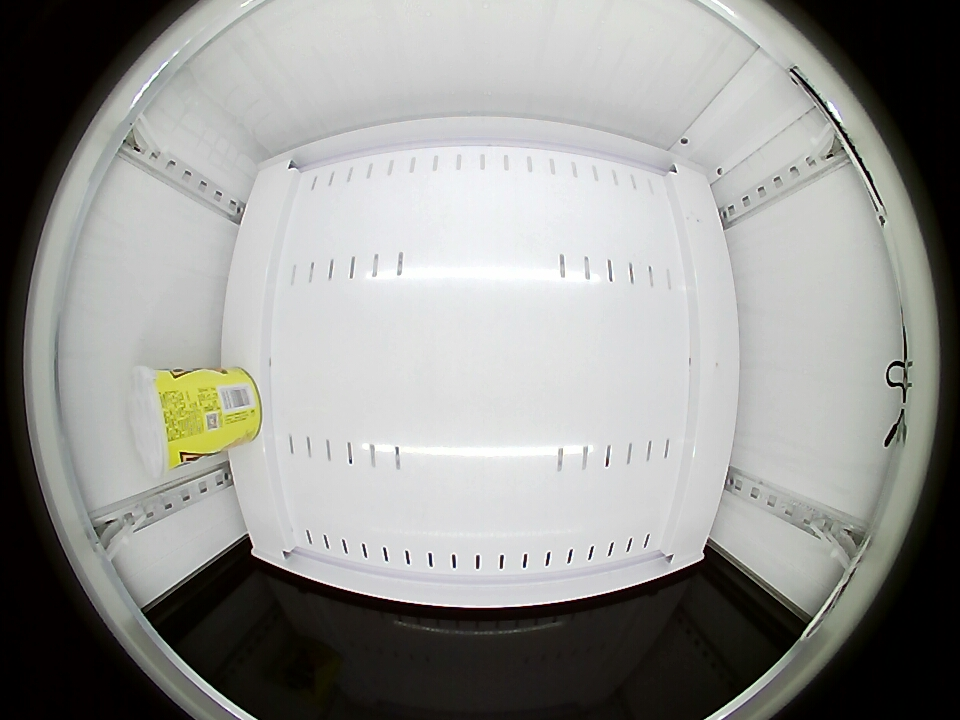kebike: (126, 365, 187, 476)
